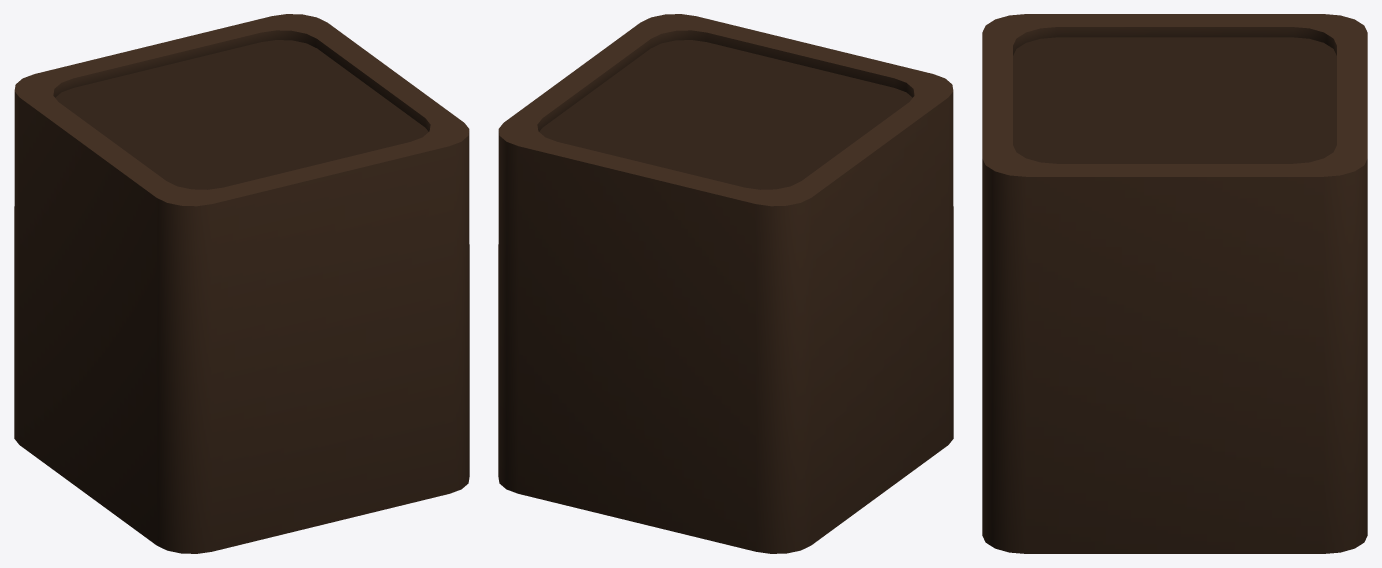
Rendered from Forest 3.fbx.
3 views of the same model, side by side, from view 1: azimuth 30°, elevation 25°; view 2: azimuth 150°, elevation 25°; view 3: azimuth 270°, elevation 25° (orthographic). The views are drawn at different scales.
Visible parts, largest first — view 1: Forest Tile 3; view 2: Forest Tile 3; view 3: Forest Tile 3.
Part boxes in pixels (left/top/right/bottom): Forest Tile 3: left=14, top=14, right=469, bottom=553; Forest Tile 3: left=498, top=14, right=953, bottom=553; Forest Tile 3: left=982, top=14, right=1367, bottom=553.
Bounding box in the file's own units: 2000 × 2159 × 2000.
